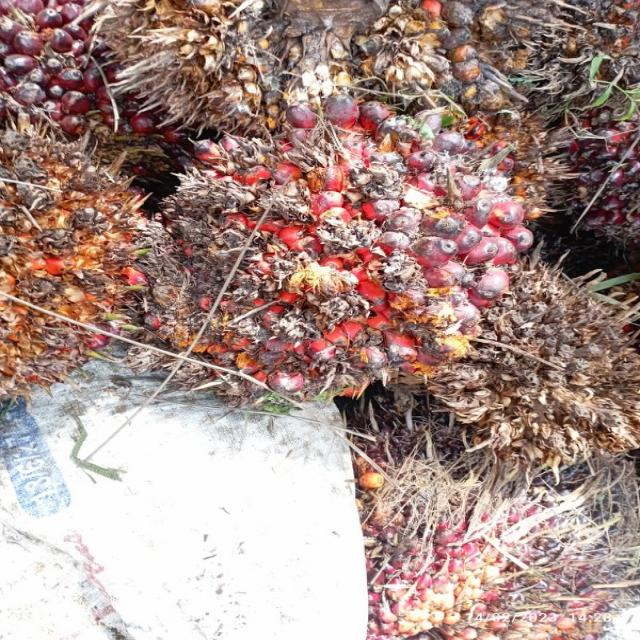fraksi 4: (143, 84, 532, 406)
